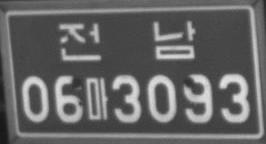0: (146, 73, 177, 123), (21, 75, 49, 123)
3: (218, 72, 250, 123), (112, 73, 141, 123)
6: (53, 73, 84, 124)
9: (181, 73, 213, 124)
마: (85, 77, 109, 120)
전남_D: (59, 20, 196, 62)
